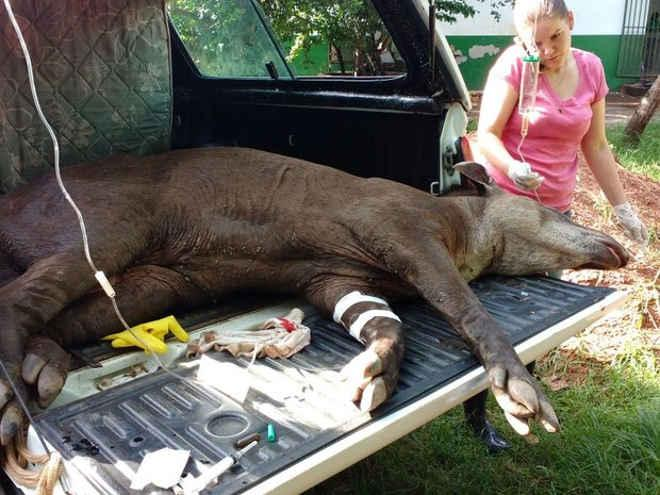Anta: (13, 144, 633, 471)
